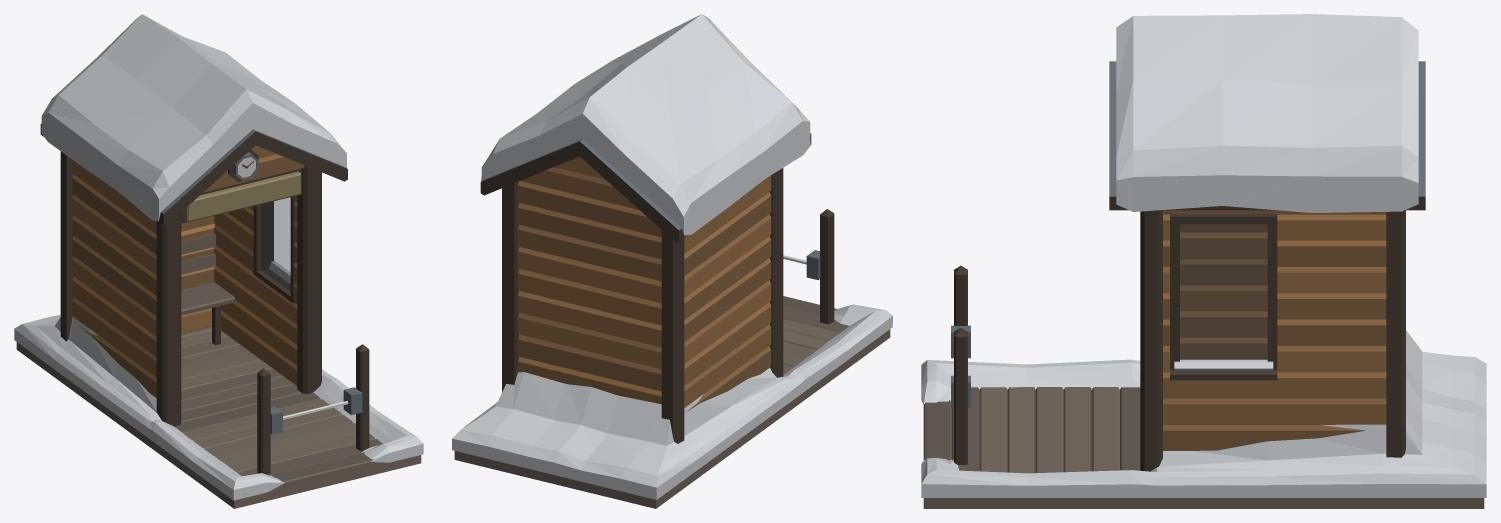
File: race-start-hut-c6d405.glb
3 renders of one model, left to right at view 1: azimuth 30°, elevation 25°; view 2: azimuth 150°, elevation 25°; view 3: azimuth 270°, elevation 25°, orthographic. The views are drawn at different scales.
Visible parts, largest first — view 1: race-start-hut, glazing; view 2: race-start-hut; view 3: race-start-hut, glazing.
Part boxes in pixels (x1=…): race-start-hut: x1=14, y1=14, x2=423, y2=508; glazing: x1=261, y1=197, x2=290, y2=291; race-start-hut: x1=452, y1=14, x2=892, y2=508; race-start-hut: x1=921, y1=14, x2=1486, y2=508; glazing: x1=1180, y1=224, x2=1267, y2=359.
Bounding box in the file's own units: 2 × 3.46 × 4.
